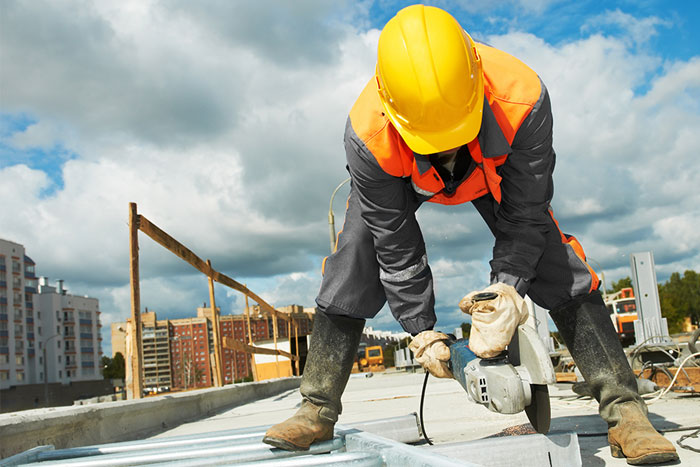With Helmet: (372, 2, 486, 163)
